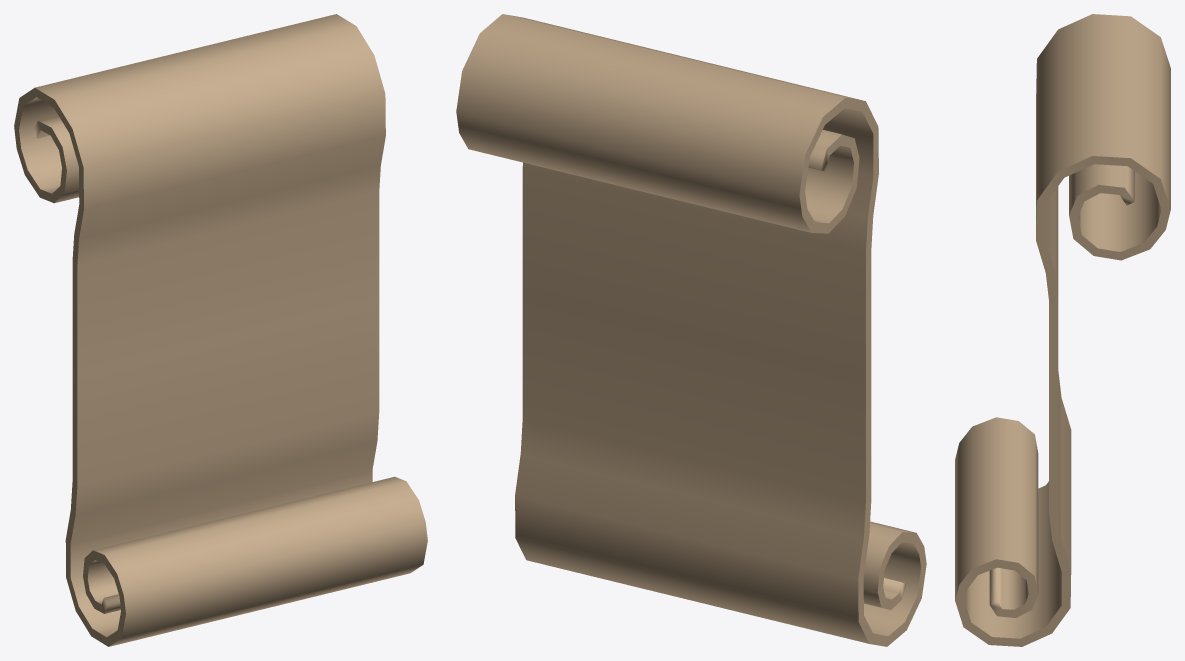
File: Scroll_02_Vertical.fbx
3 views of the same model, side by side, from view 1: azimuth 30°, elevation 25°; view 2: azimuth 150°, elevation 25°; view 3: azimuth 270°, elevation 25° (orthographic). The views are drawn at different scales.
Parts seen in each view (by area): view 1: Scroll_02_Vertical; view 2: Scroll_02_Vertical; view 3: Scroll_02_Vertical.
Boxes of the visible parts, x1=… form: Scroll_02_Vertical: x1=14, y1=14, x2=427, y2=646; Scroll_02_Vertical: x1=456, y1=14, x2=926, y2=646; Scroll_02_Vertical: x1=955, y1=14, x2=1170, y2=646.
Size of the model in its own units: 0.2453 by 0.3959 by 0.1576.
